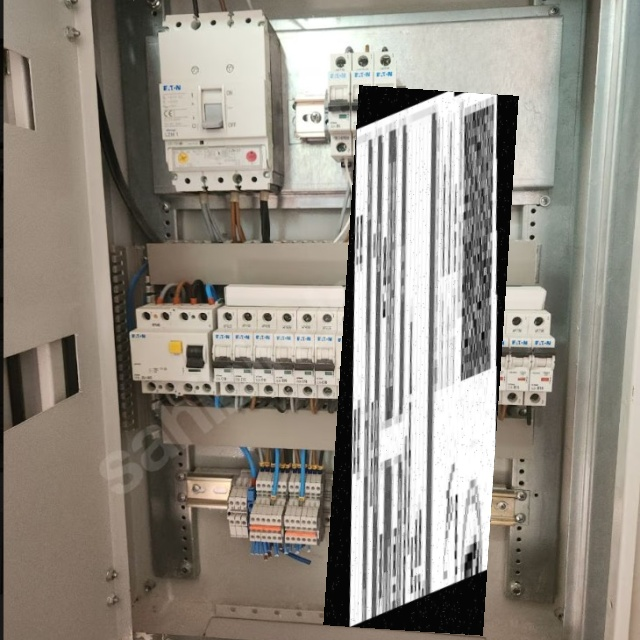electricity-bill: (322, 84, 518, 636)
